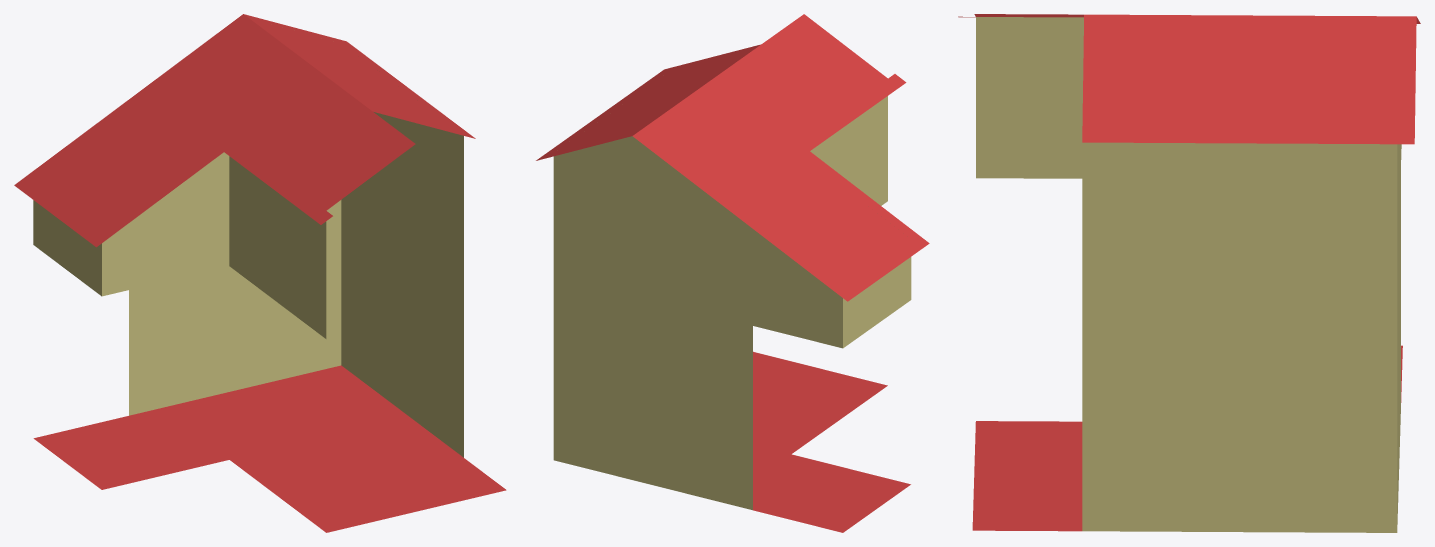
The picture shows the model from 3 angles, left to right: view 1: azimuth 30°, elevation 25°; view 2: azimuth 150°, elevation 25°; view 3: azimuth 270°, elevation 25°; orthographic projection. The views are drawn at different scales.
Size of the model in its own units: 13.57 by 13.05 by 14.35.
